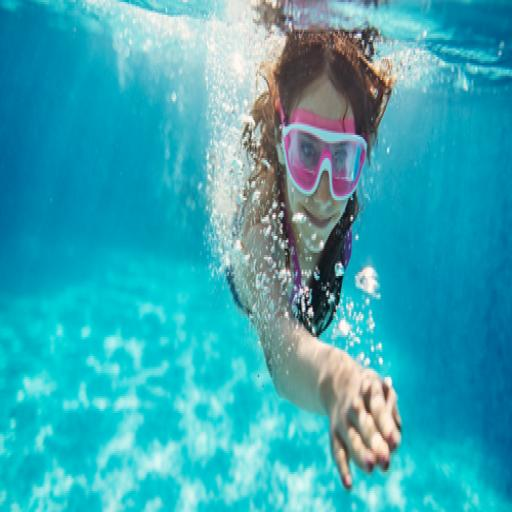swimming: (224, 19, 404, 493)
